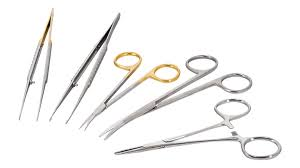fine forceps: (45, 9, 123, 123), (15, 3, 55, 123)
metz scissors: (98, 53, 253, 144), (76, 49, 181, 133)
mosquito clamp: (112, 96, 281, 160)
